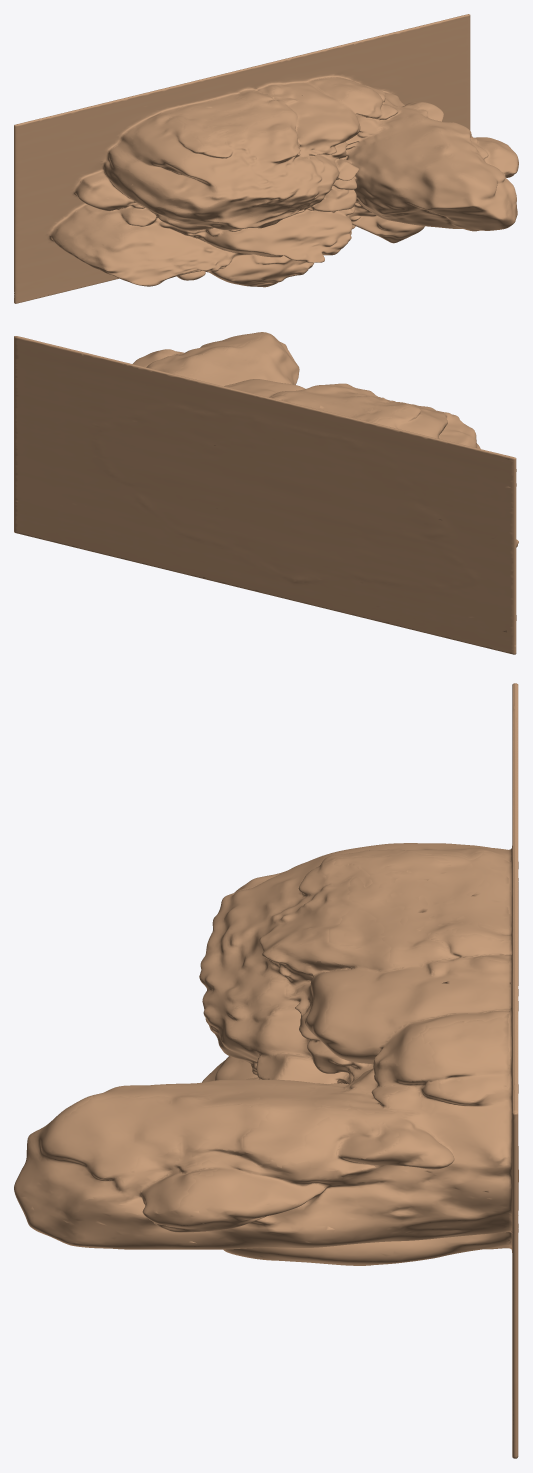
File: SM_Rock_Boulder_B.fbx
3 views of the same model, one above another, from view 1: azimuth 30°, elevation 25°; view 2: azimuth 150°, elevation 25°; view 3: azimuth 270°, elevation 25° (orthographic). The views are drawn at different scales.
Visible parts, largest first — view 1: SM_Rock_Boulder_B; view 2: SM_Rock_Boulder_B; view 3: SM_Rock_Boulder_B.
Part boxes in pixels (x1,y1,x2,y2): SM_Rock_Boulder_B: [14, 14, 518, 303]; SM_Rock_Boulder_B: [14, 332, 518, 654]; SM_Rock_Boulder_B: [14, 683, 518, 1458].
Bounding box in the file's own units: 1.2 × 0.45 × 0.5944.
